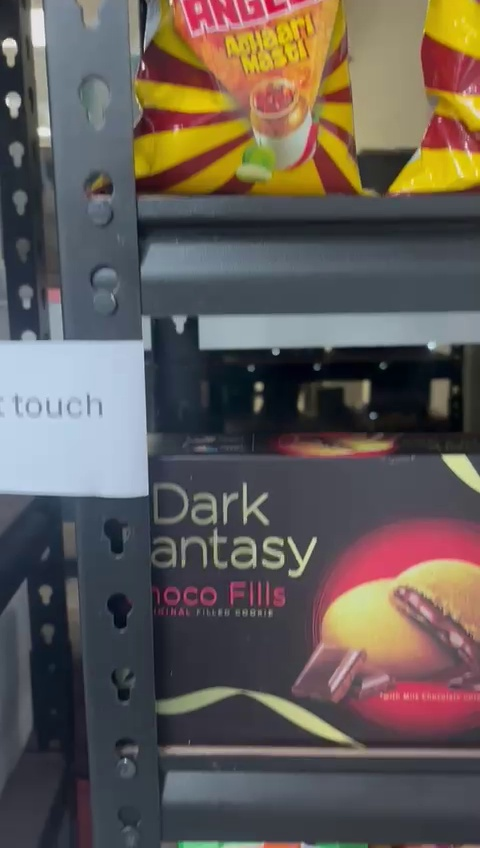Dark Fantasy: (150, 441, 480, 754)
